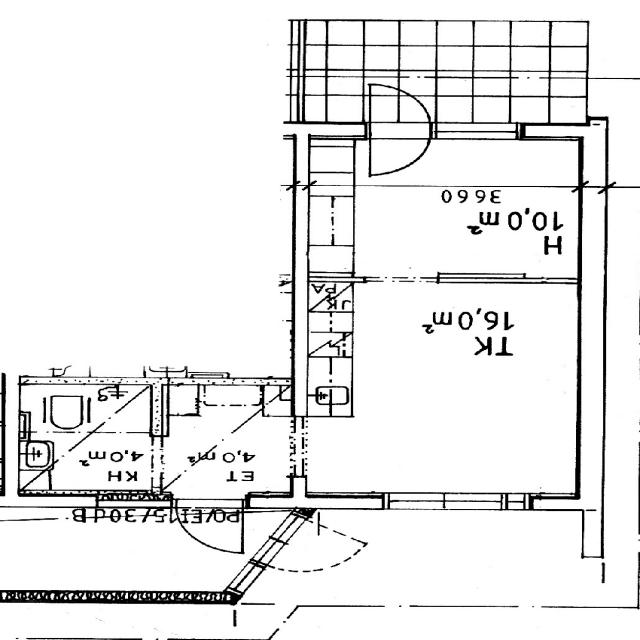door: (176, 498, 243, 554), (369, 122, 431, 180), (369, 81, 431, 139)
